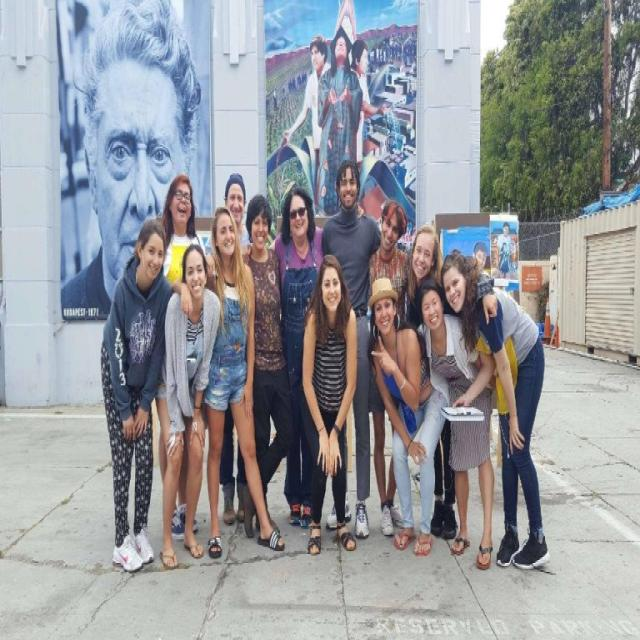body: (55, 0, 211, 317), (255, 0, 417, 267), (170, 199, 288, 560), (438, 246, 552, 576), (200, 188, 296, 542), (97, 215, 176, 573), (320, 156, 383, 542), (365, 271, 449, 560), (416, 275, 496, 572), (155, 235, 223, 572), (267, 182, 328, 530), (153, 172, 210, 541), (203, 170, 255, 526), (301, 252, 357, 557), (367, 200, 410, 538), (404, 222, 500, 330), (457, 218, 518, 290)
